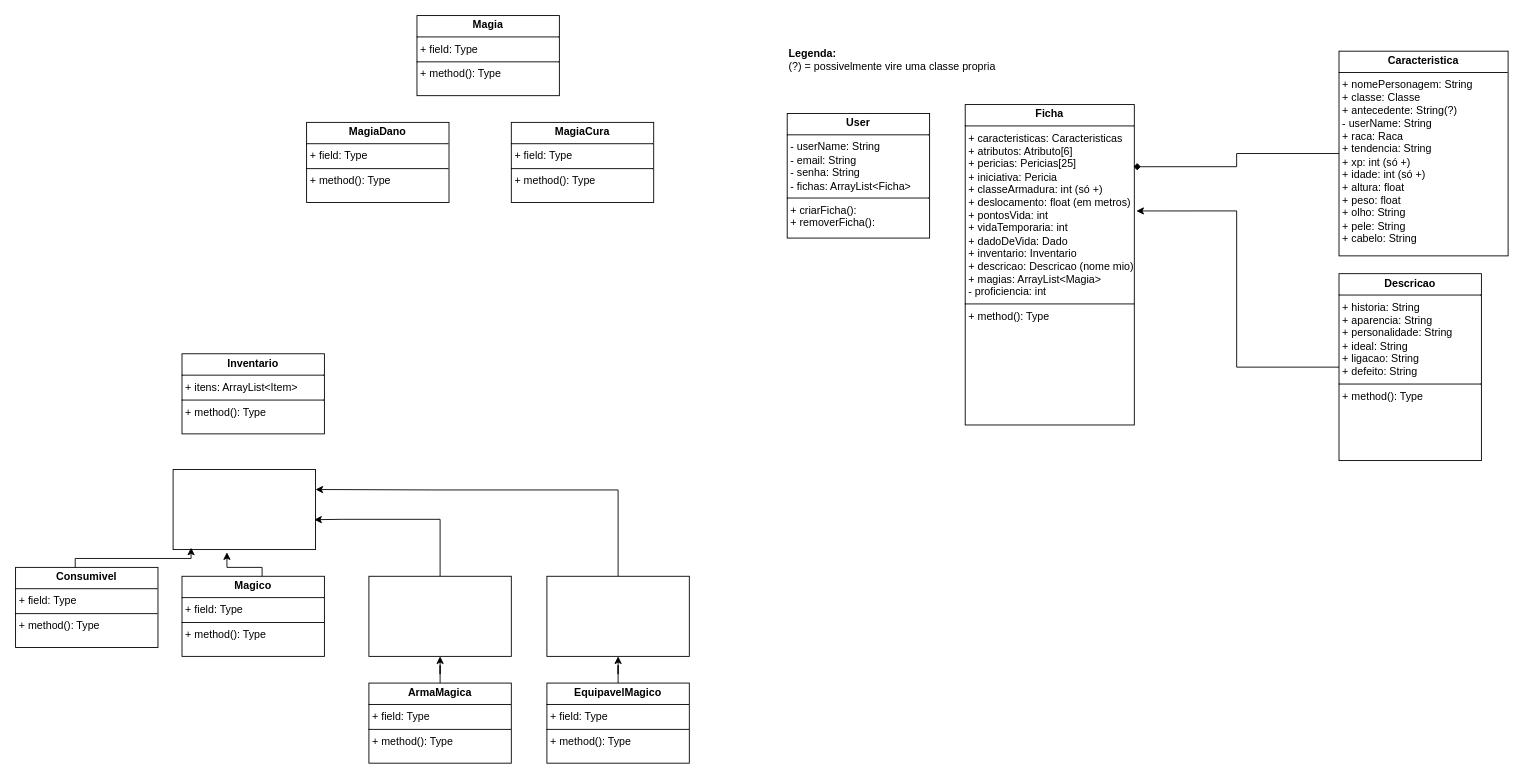
Image size: 1524x779. Some labels were removed from this diagram. The shapes that lost their labels are listed below. From the top down, each one's box as (x1, y1, x2, y2) in pixels, then its label:
(172, 469, 316, 550): Item + field: Type + method(): Type
(368, 575, 511, 656): Arma + field: Type + method(): Type
(546, 575, 689, 656): Equipavel + field: Type + method(): Type
